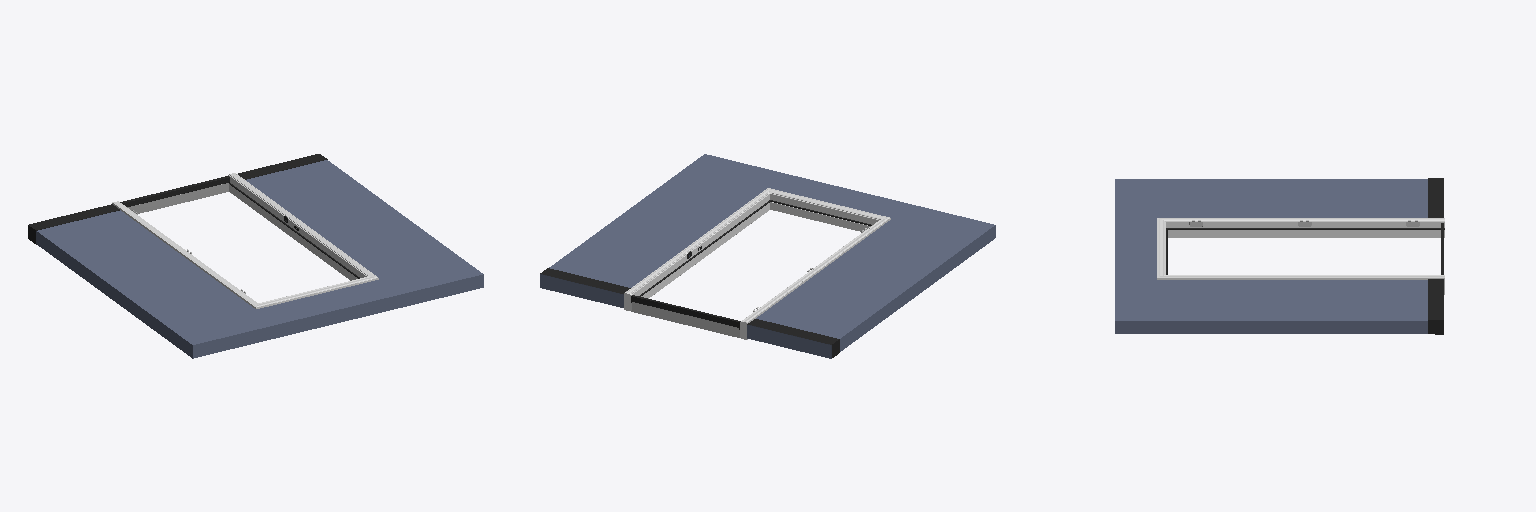
The picture shows the model from 3 angles: view 1: azimuth 30°, elevation 25°; view 2: azimuth 150°, elevation 25°; view 3: azimuth 270°, elevation 25°; orthographic projection.
Visible parts, largest first — view 1: exterior_door_frame_Vert; view 2: exterior_door_frame_Vert; view 3: exterior_door_frame_Vert.
Part boxes in pixels (left/top/right/bottom): exterior_door_frame_Vert: left=28, top=154, right=483, bottom=358; exterior_door_frame_Vert: left=540, top=154, right=995, bottom=358; exterior_door_frame_Vert: left=1115, top=178, right=1444, bottom=334.
Bounding box in the file's own units: 2.47 × 0.1472 × 2.42.
4 materials, 1 textured.